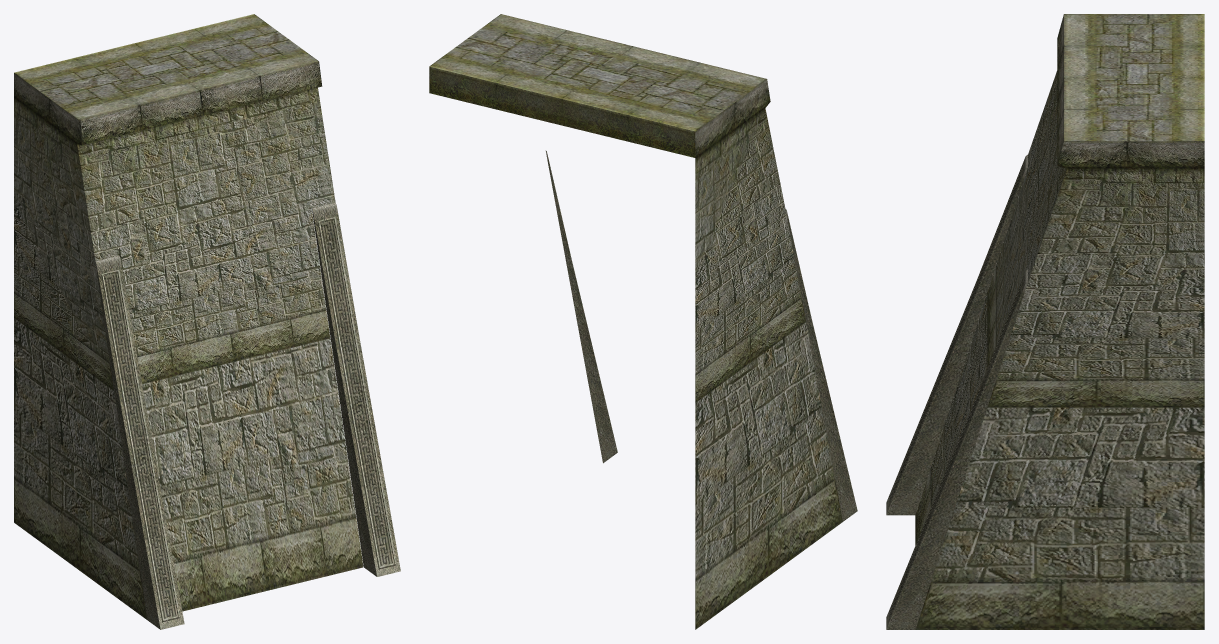
File: secret_bigwall_01.glb
The picture shows the model from 3 angles, left to right: view 1: azimuth 30°, elevation 25°; view 2: azimuth 150°, elevation 25°; view 3: azimuth 270°, elevation 25°; orthographic projection. The views are drawn at different scales.
Parts seen in each view (by area): view 1: secret_bigwall_01; view 2: secret_bigwall_01; view 3: secret_bigwall_01.
Part boxes in pixels (x1,y1,x2,y2): secret_bigwall_01: [14, 14, 400, 629]; secret_bigwall_01: [429, 14, 857, 629]; secret_bigwall_01: [886, 14, 1204, 629].
Size of the model in its own units: 10 by 17.9 by 10.57.
1 material, 1 textured.
